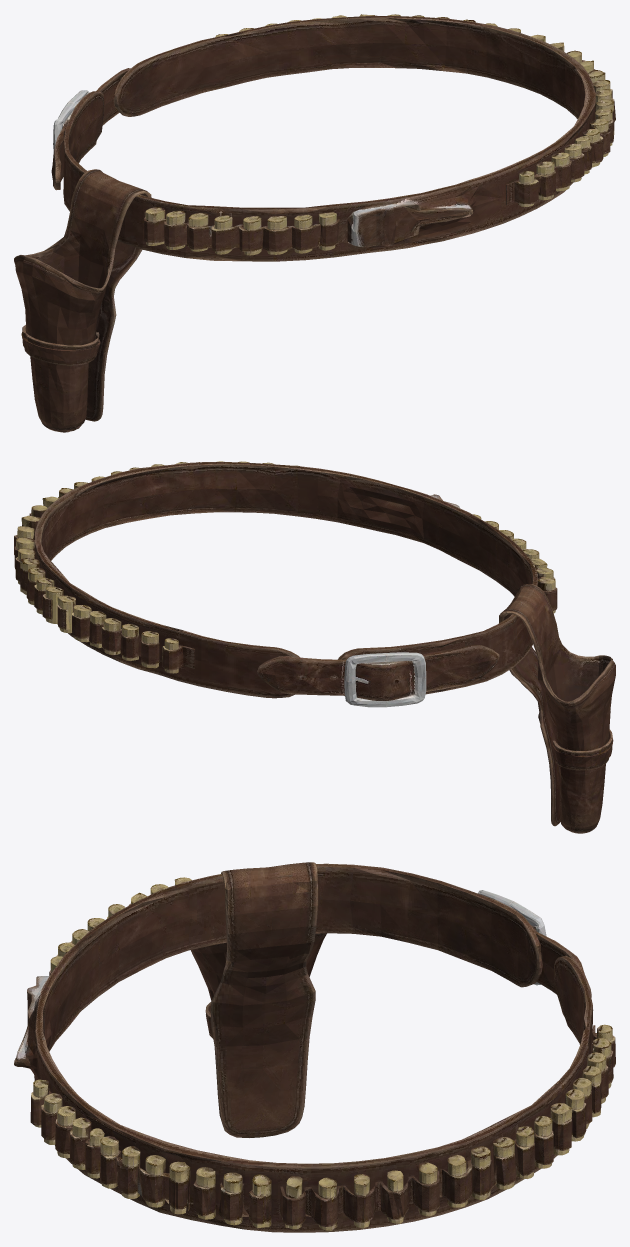
The model's file is ewm_gunbelt.glb.
3 views of the same model, one above another, from view 1: azimuth 30°, elevation 25°; view 2: azimuth 150°, elevation 25°; view 3: azimuth 270°, elevation 25° (orthographic). The views are drawn at different scales.
Visible parts, largest first — view 1: ewm_gunbelt; view 2: ewm_gunbelt; view 3: ewm_gunbelt.
Part boxes in pixels (box(x1,y1,x2,y2)): ewm_gunbelt: box(14, 14, 615, 432); ewm_gunbelt: box(14, 461, 615, 833); ewm_gunbelt: box(14, 862, 615, 1232).
Size of the model in its own units: 0.443 by 0.1655 by 0.3048.
Materials: 1 (1 with a texture image).
